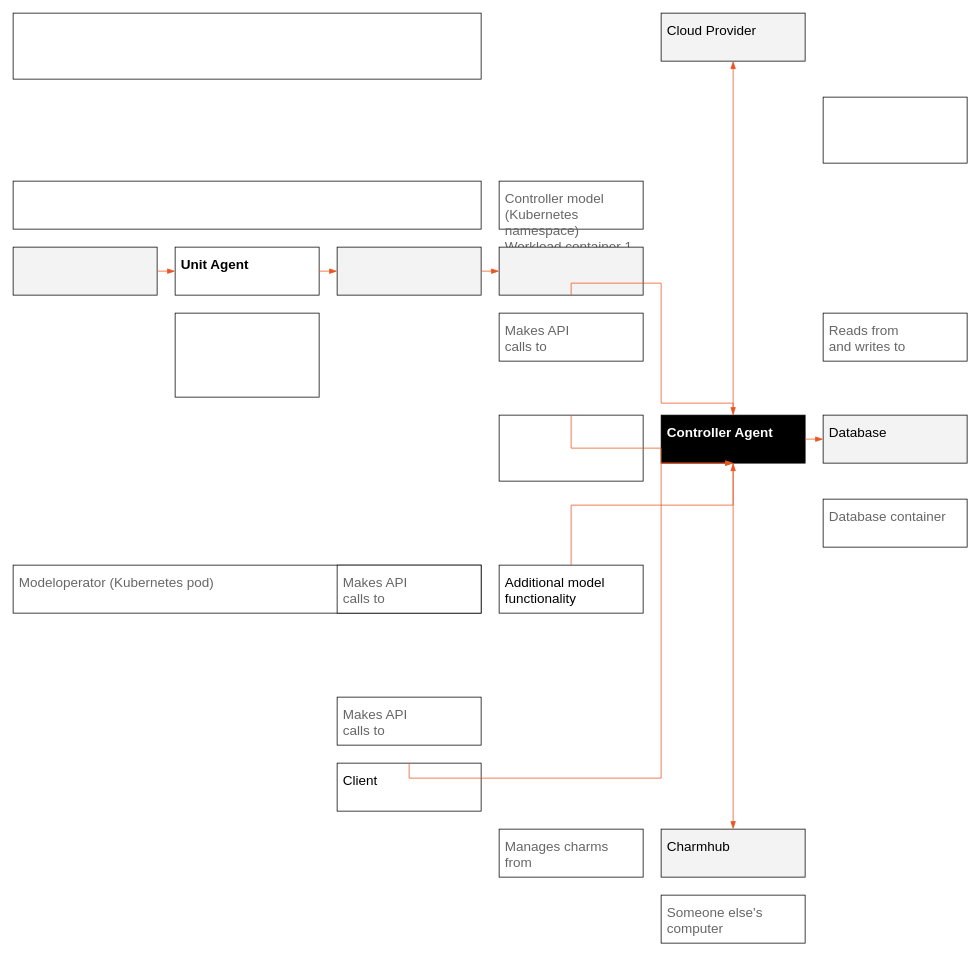
Image size: 980x956. Some labels were removed from this diagram. The box of each missing label's shape, as (x1, y1, x2, y2) in pixels:
Charm: (336, 246, 481, 295)
Controller unit (Kubernetes pod) Charm container 1: (12, 180, 481, 229)
Manages resources (compute, storage, networking) from: (822, 96, 967, 163)
Model Agent one for each model on the controller: (498, 414, 643, 481)
Pebble - charm: (12, 246, 157, 295)
Pebble - workload: (498, 246, 643, 295)
Progresses the unit's state by executing: (174, 312, 319, 397)
Your computer Multipass VM Machine (Kubernetes node, not managed by Juju): (12, 12, 481, 79)
